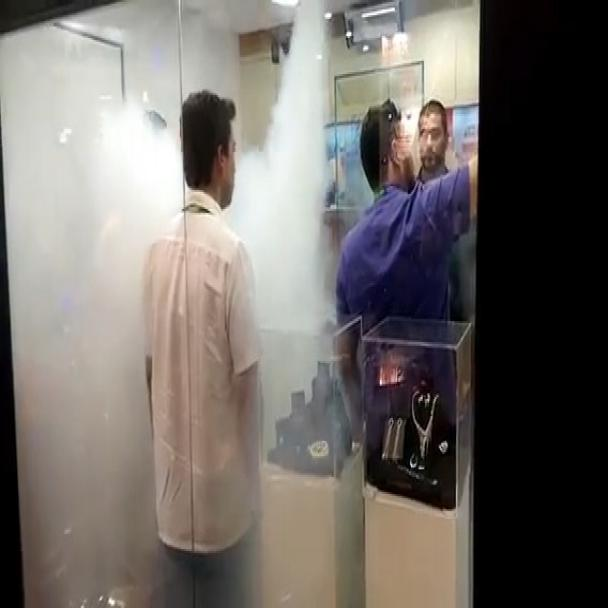smoke: (10, 1, 406, 542)
